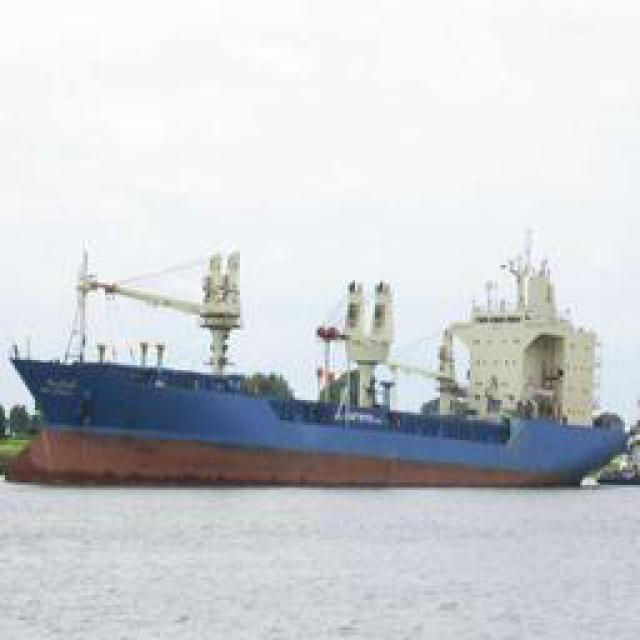Ship: (8, 324, 636, 494)
